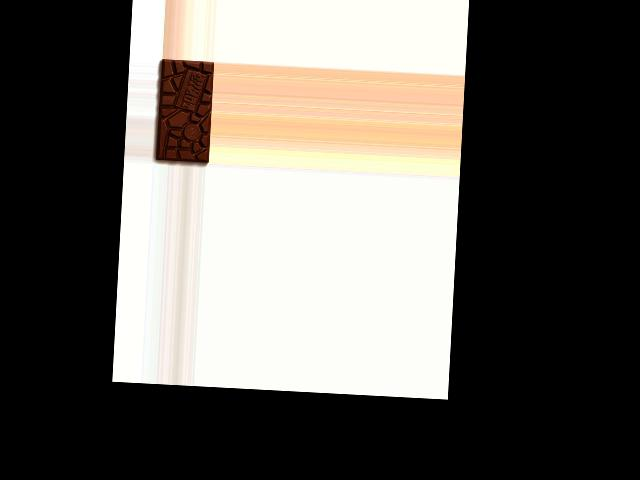chocolate: (153, 58, 213, 163)
